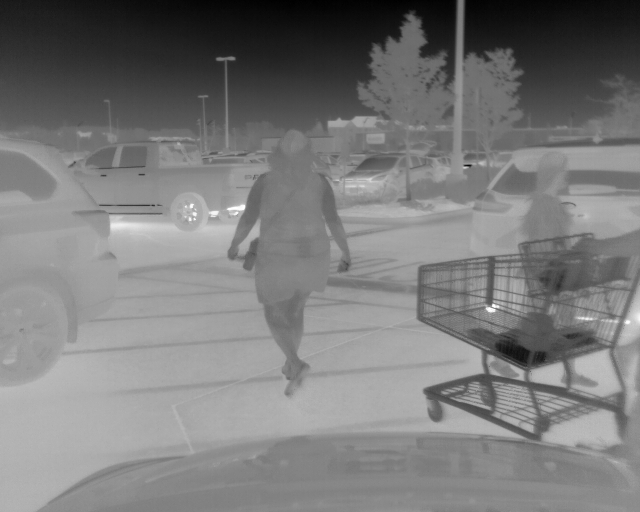car: (469, 138, 640, 347), (1, 137, 120, 385), (70, 135, 270, 229), (338, 151, 449, 205), (463, 148, 510, 169)
people: (229, 131, 354, 394), (493, 150, 598, 387), (573, 225, 640, 466)
